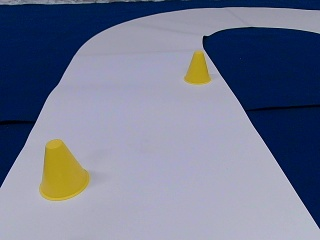cone: (38, 140, 89, 199), (183, 51, 210, 84)
